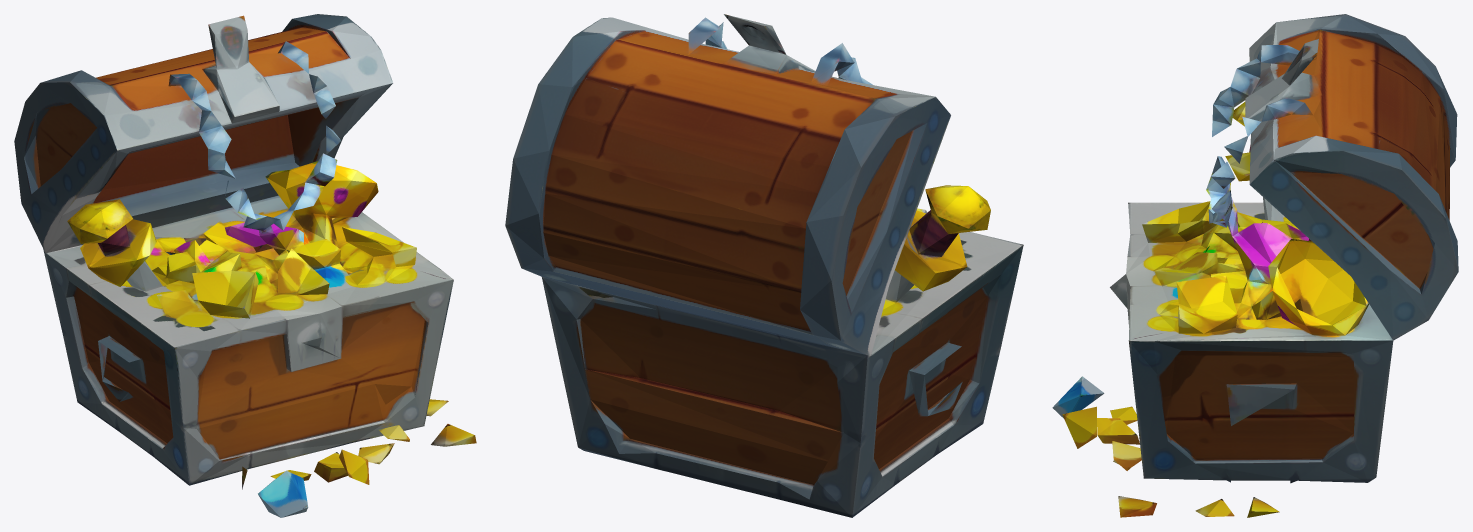
File: hello_world2.glb
3 views of the same model, side by side, from view 1: azimuth 30°, elevation 25°; view 2: azimuth 150°, elevation 25°; view 3: azimuth 270°, elevation 25° (orthographic). The views are drawn at different scales.
Visible parts, largest first — view 1: world; view 2: world; view 3: world.
Part boxes in pixels (bbox=[...]): world: bbox=[14, 14, 476, 517]; world: bbox=[505, 14, 1023, 517]; world: bbox=[1052, 14, 1458, 517].
Bounding box in the file's own units: 0.9203 × 0.9929 × 0.9215.
Materials: 1 (1 with a texture image).
